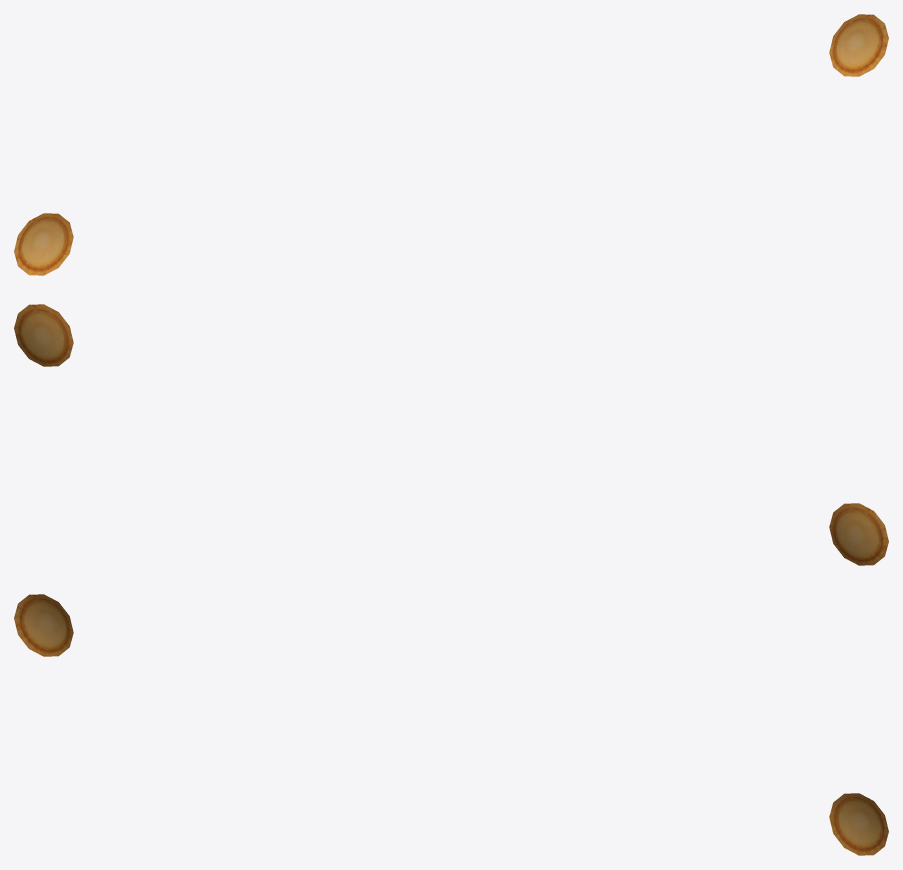
File: ywing_engine_s01_on_l0.fbx
3 views of the same model, one above another, from view 1: azimuth 30°, elevation 25°; view 2: azimuth 150°, elevation 25°; view 3: azimuth 330°, elevation 25° (orthographic).
Visible parts, largest first — view 1: mesh_node; view 2: mesh_node; view 3: mesh_node.
Boxes of the visible parts, left/top/right/bottom form: mesh_node: left=14, top=14, right=888, bottom=275; mesh_node: left=14, top=304, right=888, bottom=565; mesh_node: left=14, top=594, right=888, bottom=855.
Size of the model in its own units: 10.26 by 0.7003 by 0.0753.
1 material, 1 textured.
